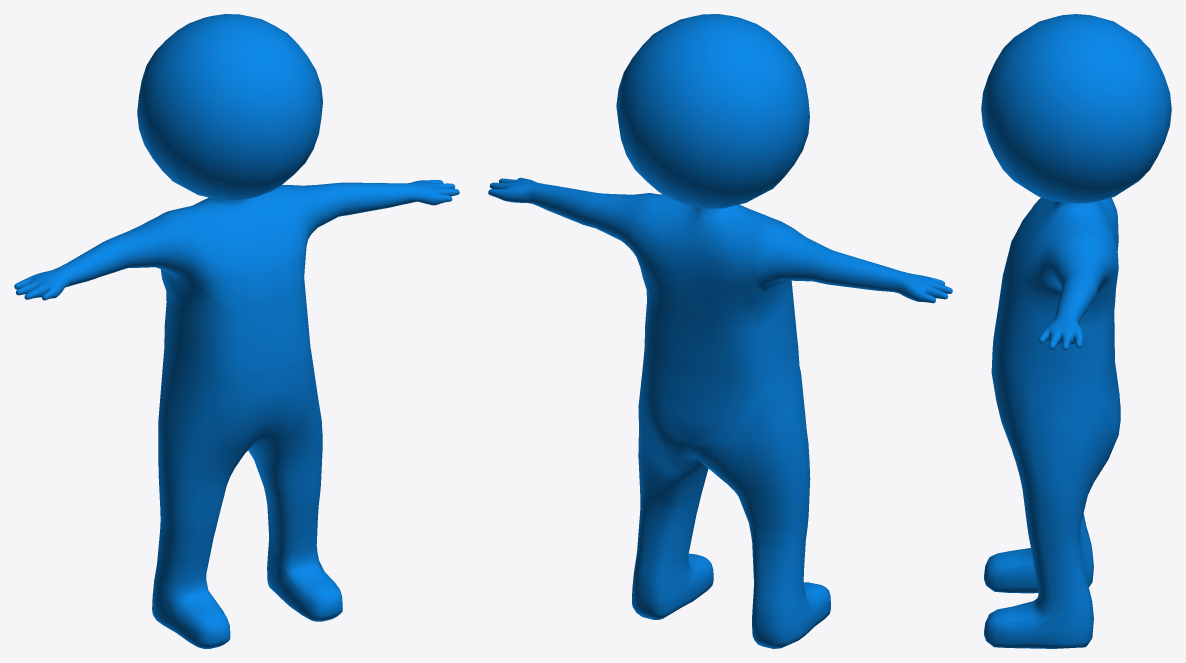
Rendered from stickman_with_bone 1.fbx.
3 renders of one model, left to right at view 1: azimuth 30°, elevation 25°; view 2: azimuth 150°, elevation 25°; view 3: azimuth 270°, elevation 25°, orthographic. The views are drawn at different scales.
Parts seen in each view (by area): view 1: Base_Character; view 2: Base_Character; view 3: Base_Character.
Part boxes in pixels (box(x1,y1,x2,y2)): Base_Character: box(14, 14, 459, 648); Base_Character: box(488, 14, 952, 648); Base_Character: box(981, 14, 1171, 648).
Size of the model in its own units: 541 by 686 by 200.
